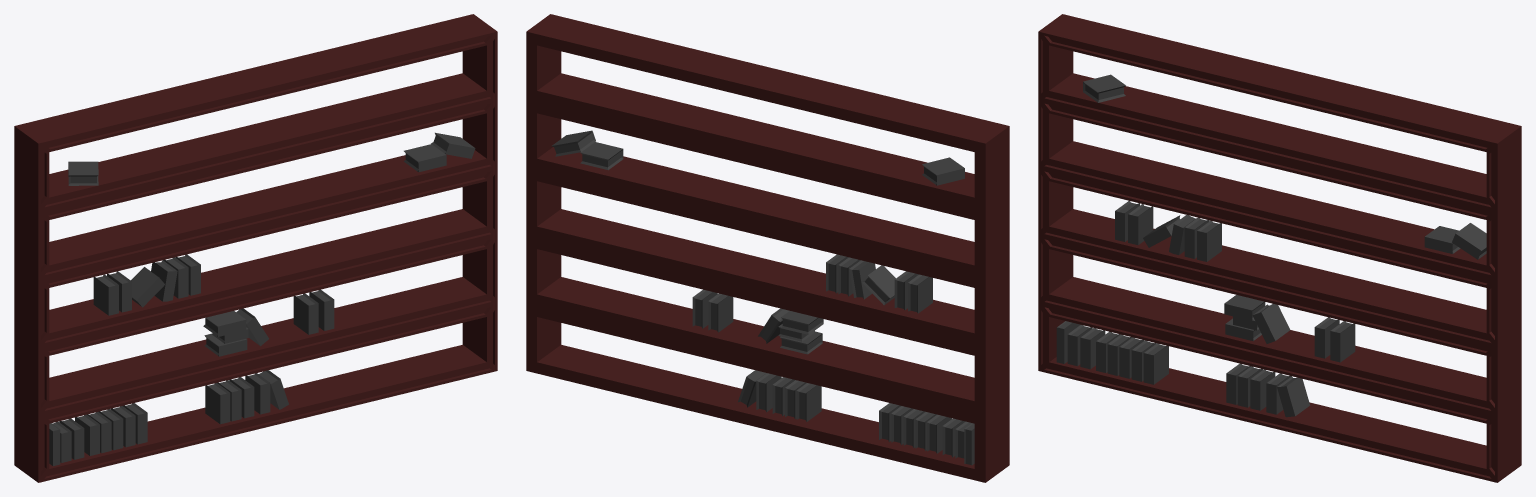
The model's file is Shelve.fbx.
3 renders of one model, left to right at view 1: azimuth 30°, elevation 25°; view 2: azimuth 150°, elevation 25°; view 3: azimuth 330°, elevation 25°, orthographic.
Parts seen in each view (by area): view 1: Cube; view 2: Cube; view 3: Cube.
Part boxes in pixels (x1=…): Cube: x1=14, y1=14, x2=497, y2=482; Cube: x1=526, y1=14, x2=1009, y2=482; Cube: x1=1038, y1=14, x2=1521, y2=482.
Size of the model in its own units: 750 by 530 by 68.59.
